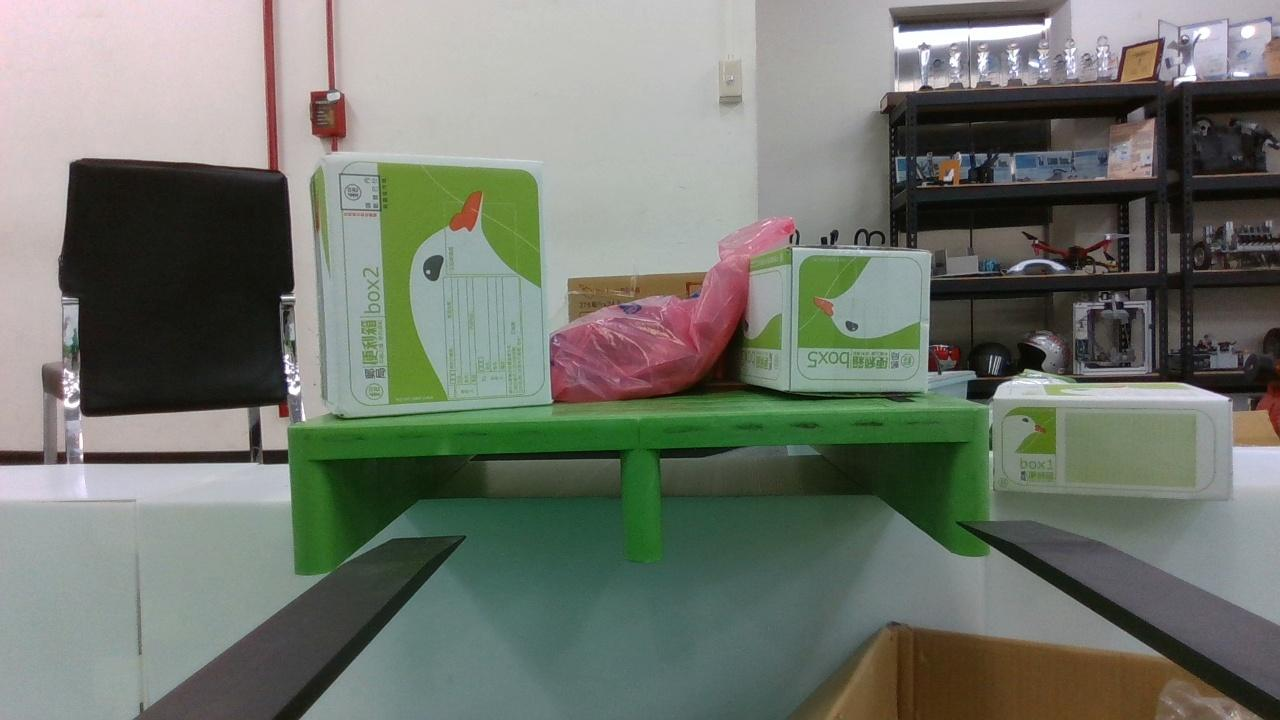Pallet: (284, 403, 991, 579)
